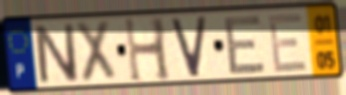E: (223, 13, 268, 77), (266, 11, 310, 75)
H: (122, 16, 174, 86)
N: (31, 22, 82, 86)
V: (169, 14, 209, 80)
X: (73, 18, 119, 85)
